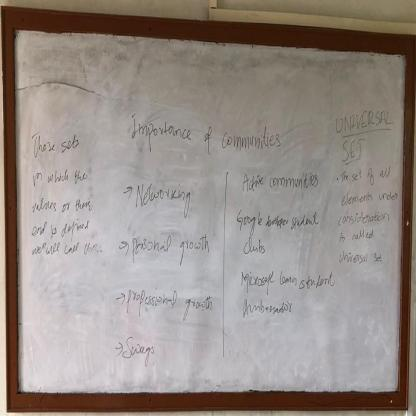Handwritten text: (130, 106, 287, 156), (125, 279, 215, 325), (130, 225, 213, 270), (238, 264, 338, 295), (135, 173, 193, 220), (240, 167, 324, 198), (236, 207, 323, 236), (334, 104, 395, 136), (28, 126, 85, 159), (26, 161, 89, 190), (237, 297, 294, 326), (26, 218, 93, 241), (26, 193, 95, 215), (124, 330, 158, 374), (336, 186, 400, 207), (334, 165, 396, 186), (334, 245, 387, 264), (334, 211, 393, 228), (337, 138, 371, 164), (336, 228, 379, 245), (241, 237, 270, 258)
Whiteboard: (8, 19, 409, 400)
